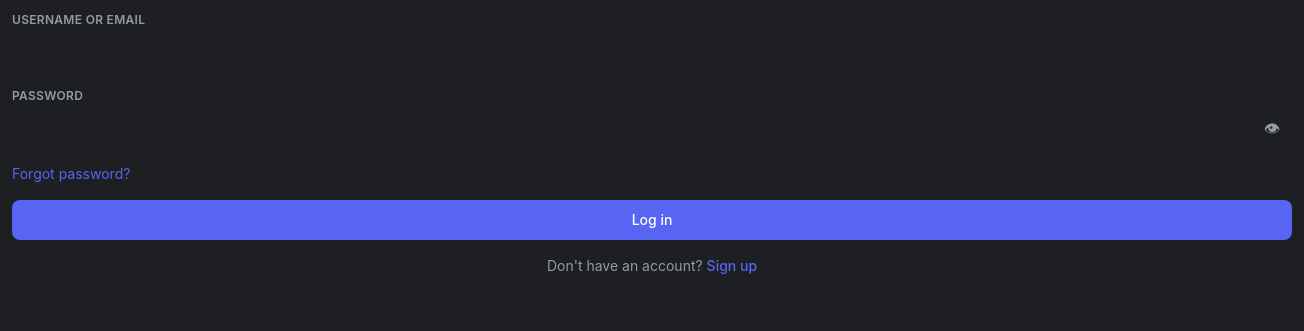
Test: LoginForm › shows validation errors when submitting empty
Click the button "Log in": (652, 220) left=12, top=200, right=1292, bottom=240
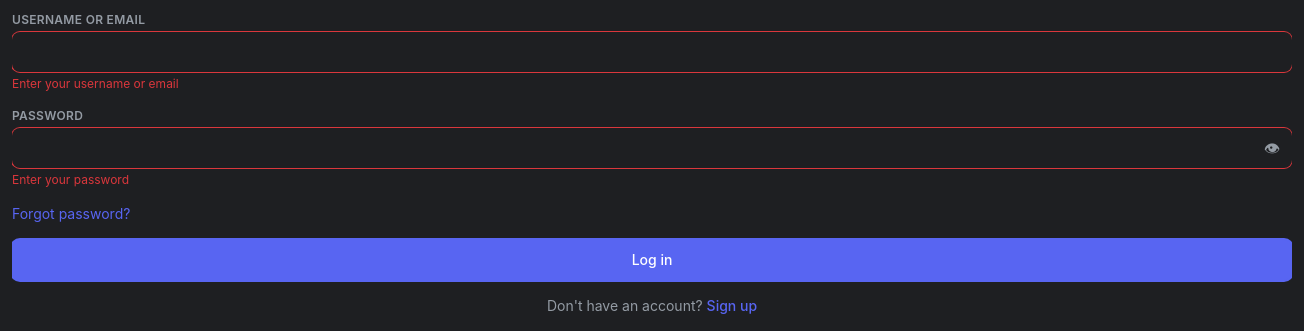
Result: the text "Enter your username or email" is shown at left=12, top=76, right=179, bottom=91
Result: the text "Enter your password" is shown at left=12, top=172, right=129, bottom=187
